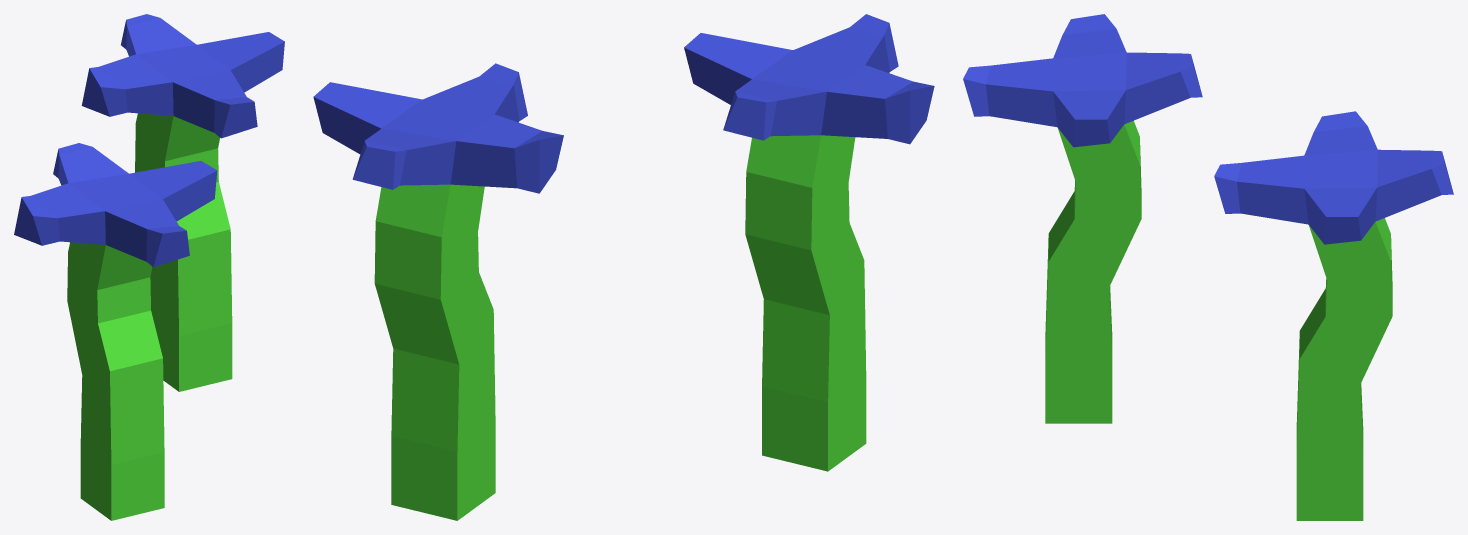
Rendered from flower_blue_2.glb.
3 renders of one model, left to right at view 1: azimuth 30°, elevation 25°; view 2: azimuth 150°, elevation 25°; view 3: azimuth 270°, elevation 25°, orthographic. The views are drawn at different scales.
Parts seen in each view (by area): view 1: Cube.001, Cube; view 2: Cube, Cube.001; view 3: Cube.001, Cube.
Part boxes in pixels (bbox=[...]): Cube.001: bbox=[14, 143, 217, 520]; Cube: bbox=[81, 14, 284, 391]; Cube: bbox=[313, 63, 563, 520]; Cube.001: bbox=[684, 14, 934, 471]; Cube.001: bbox=[963, 14, 1202, 423]; Cube: bbox=[1214, 111, 1453, 520].
Bounding box in the file's own units: 0.6944 × 0.5753 × 0.7338.
